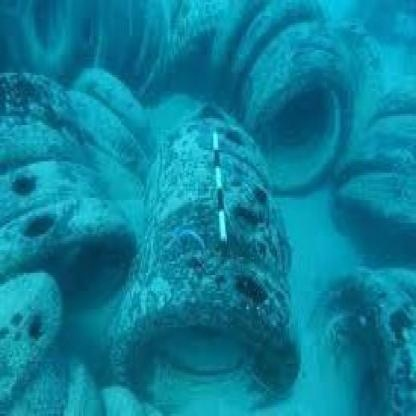tire: (112, 250, 304, 416), (323, 250, 416, 409), (243, 43, 342, 184), (12, 204, 120, 264)
